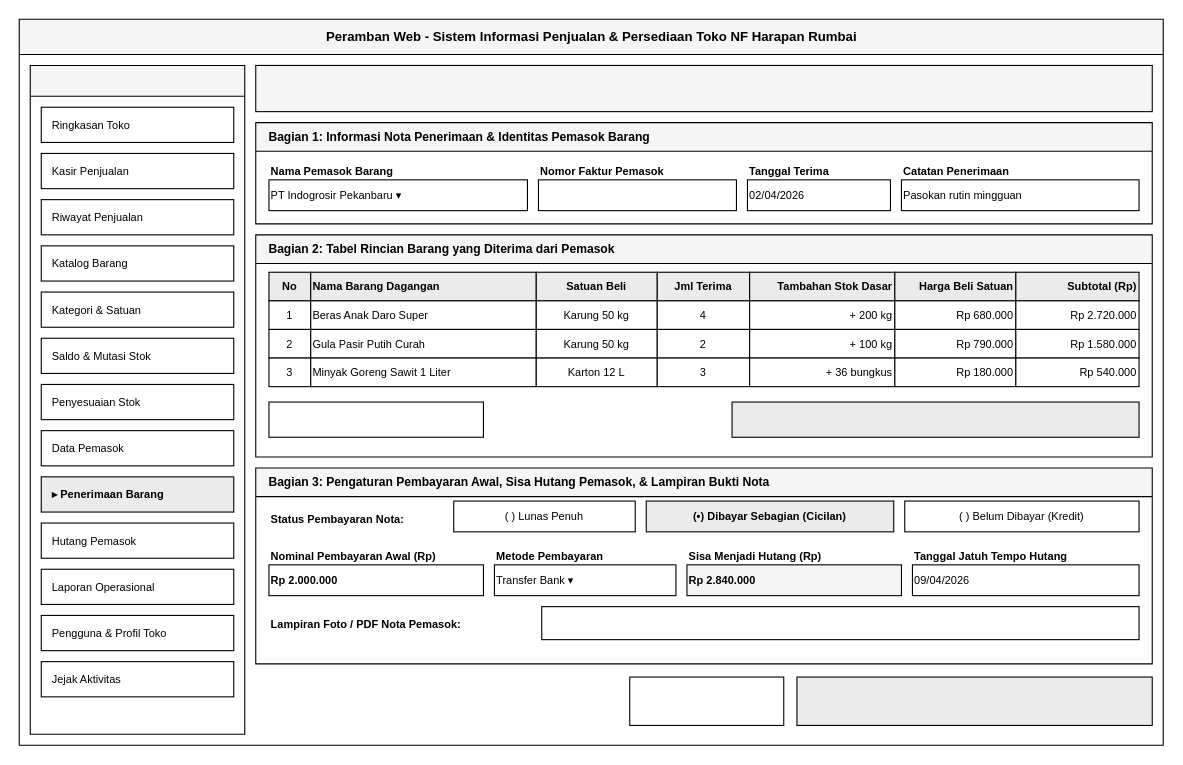
Some shapes in this 1183 by 765 pixel diagram are drawn without their labels. Each missing label, with the box of its shape:
+ Tambah Baris Barang: (268, 401, 483, 437)
[ Pilih Berkas ] nota_faktur_indogrosir_089.jpg (Terverifikasi): (541, 606, 1139, 640)
BATAL: (629, 676, 784, 725)
Formulir Pencatatan Penerimaan Barang Masuk dari Pemasok: (255, 64, 1152, 112)
INV-IGR-2026-089: (537, 179, 736, 211)
Menu Navigasi: (29, 64, 245, 734)
SIMPAN PENERIMAAN & CATAT HUTANG: (796, 676, 1152, 725)
TOTAL NILAI NOTA PENERIMAAN : Rp 4.840.000: (731, 401, 1139, 437)
